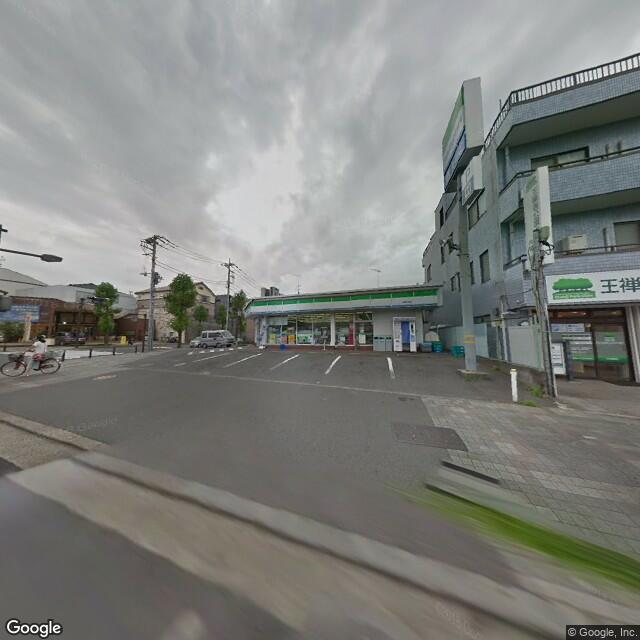family_mart: (243, 284, 446, 321), (438, 81, 470, 176)
